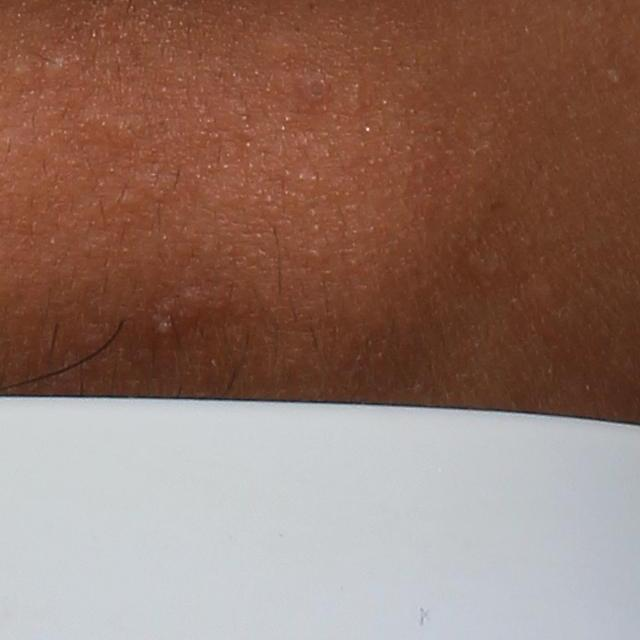comedo: (43, 53, 70, 86)
